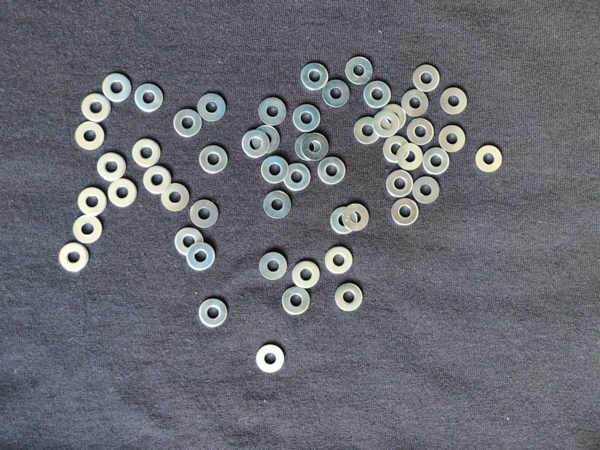circle: (71, 117, 108, 151), (76, 88, 112, 122), (73, 186, 109, 218), (409, 59, 442, 93), (134, 81, 168, 114), (101, 71, 136, 103), (68, 215, 105, 245), (58, 240, 89, 275), (342, 55, 374, 88), (129, 137, 162, 168), (97, 150, 128, 183), (256, 249, 287, 282), (108, 177, 139, 209), (281, 286, 313, 317), (323, 246, 355, 277), (186, 198, 219, 228), (197, 298, 228, 329), (196, 93, 228, 123), (263, 191, 293, 223), (172, 228, 204, 258), (186, 242, 218, 272), (438, 87, 471, 116), (257, 97, 290, 126), (173, 109, 203, 140), (294, 131, 324, 162), (256, 343, 287, 373), (301, 62, 331, 92), (240, 128, 270, 158), (161, 182, 190, 213), (321, 78, 351, 107), (143, 166, 173, 195), (390, 197, 419, 227), (473, 143, 503, 172), (400, 90, 431, 118), (437, 125, 468, 153), (293, 104, 322, 133), (302, 133, 331, 162), (283, 163, 312, 192), (422, 147, 451, 176), (293, 260, 322, 289), (250, 125, 280, 153), (413, 175, 440, 206), (329, 207, 356, 238), (379, 103, 407, 132), (261, 154, 289, 183), (317, 156, 346, 184), (382, 135, 410, 164), (407, 117, 435, 146), (335, 283, 365, 310), (364, 79, 392, 107), (201, 146, 229, 174), (344, 203, 371, 231), (354, 117, 380, 145), (386, 171, 414, 196), (397, 144, 423, 170), (374, 111, 399, 137)
